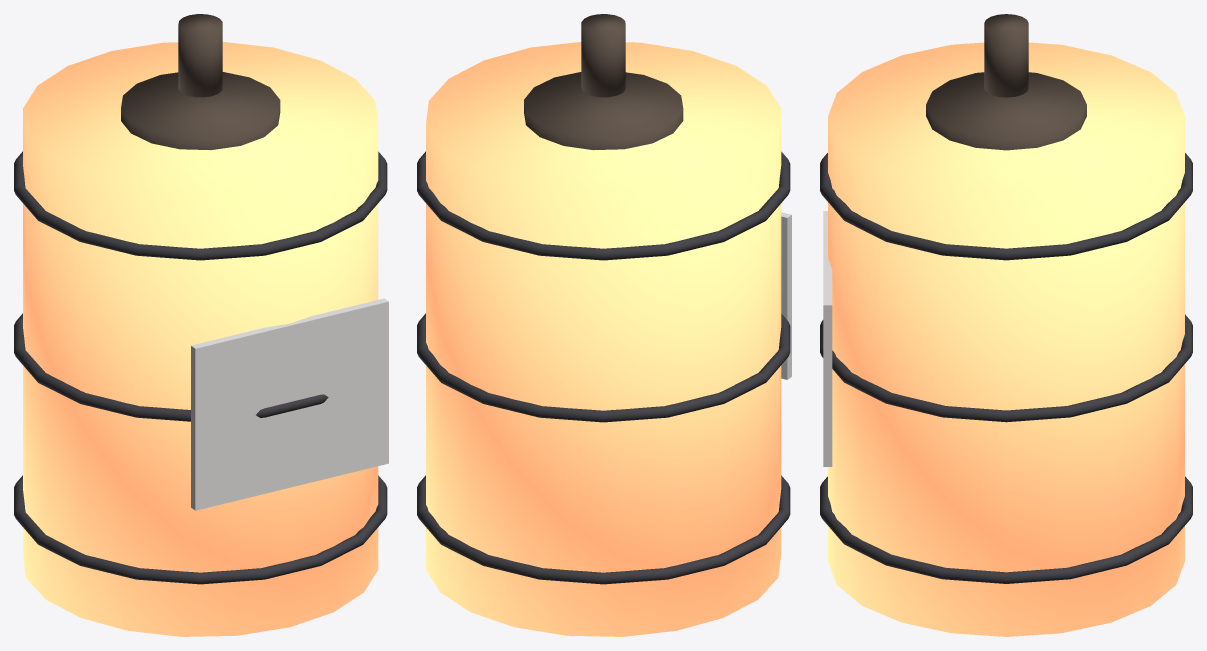
File: prop_chochin_kanban_aka.glb
The picture shows the model from 3 angles, left to right: view 1: azimuth 30°, elevation 25°; view 2: azimuth 150°, elevation 25°; view 3: azimuth 270°, elevation 25°; orthographic projection.
Parts seen in each view (by area): view 1: chochin_kanban_aka; view 2: chochin_kanban_aka; view 3: chochin_kanban_aka.
Boxes of the visible parts, <box> form: chochin_kanban_aka: <box>14,14,388,636</box>; chochin_kanban_aka: <box>417,14,791,636</box>; chochin_kanban_aka: <box>820,14,1192,636</box>.
Size of the model in its own units: 0.848 by 1.36 by 0.8351.
